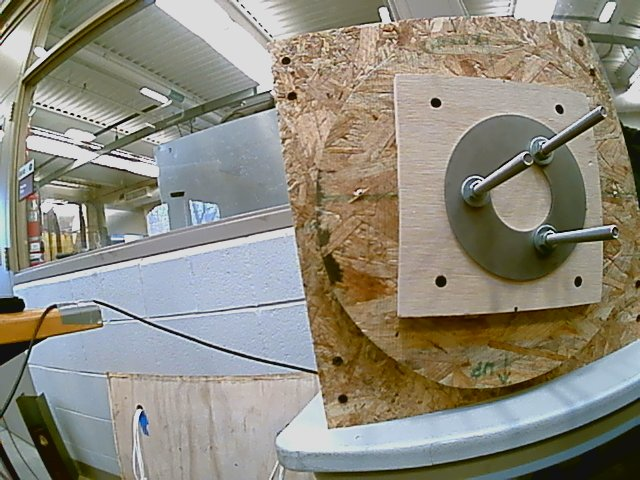bolt: (521, 149, 534, 170), (608, 224, 621, 241), (598, 105, 607, 119)
